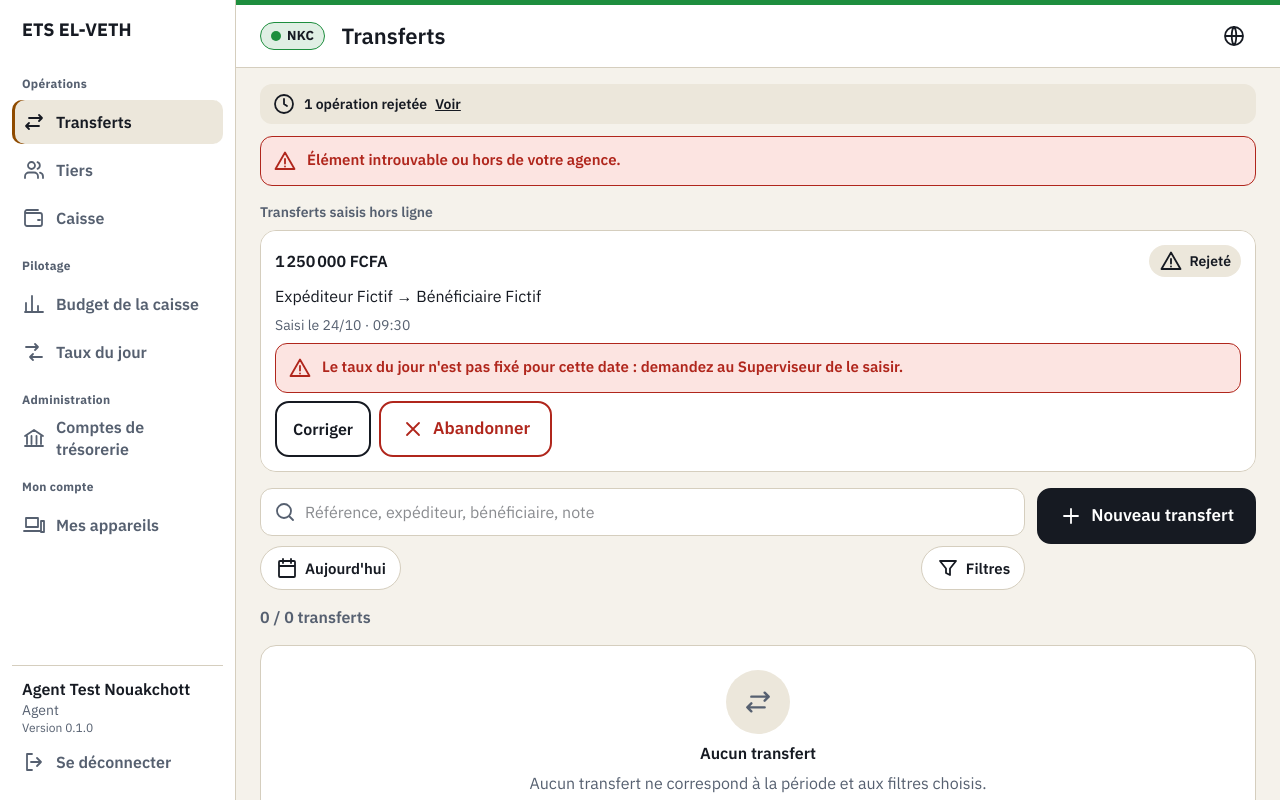
Scenario: File des créations hors ligne › « Corriger » rouvre le formulaire rempli, avec le motif du rejet
Click the link "Corriger". click: (323, 429)
box: [275,401,371,457]
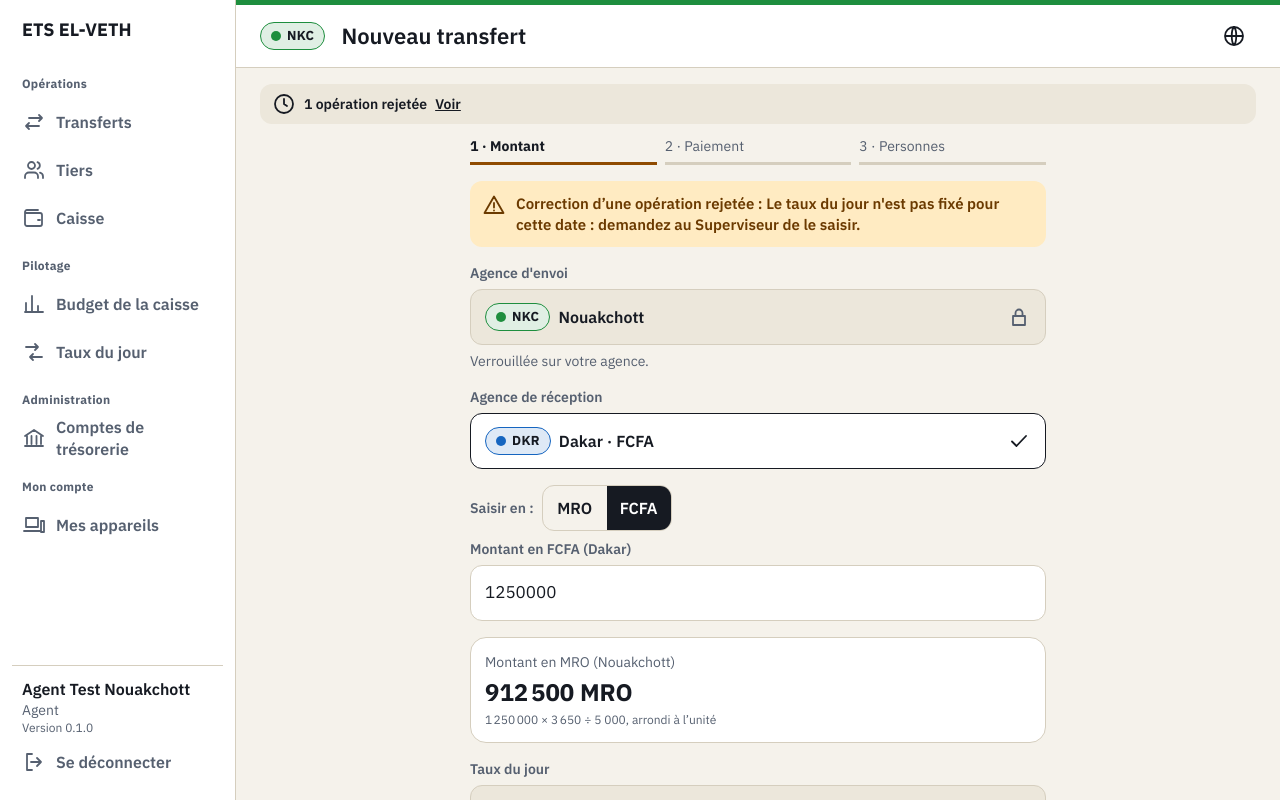
Expected: the text "Correction d’une opération rejetée" is shown, [516,194,999,234]
Expected: the field labelled "Montant en FCFA (Dakar)" holds "1250000", [471,567,1045,619]
